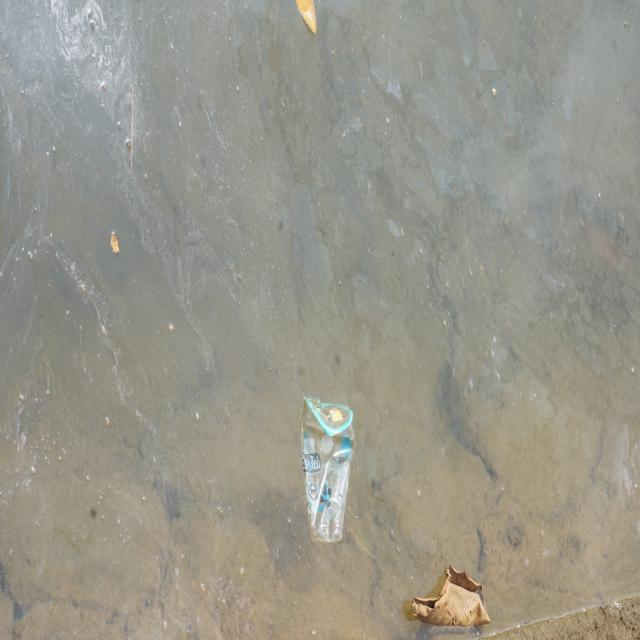Bungkus Minuman: (297, 392, 355, 552)
